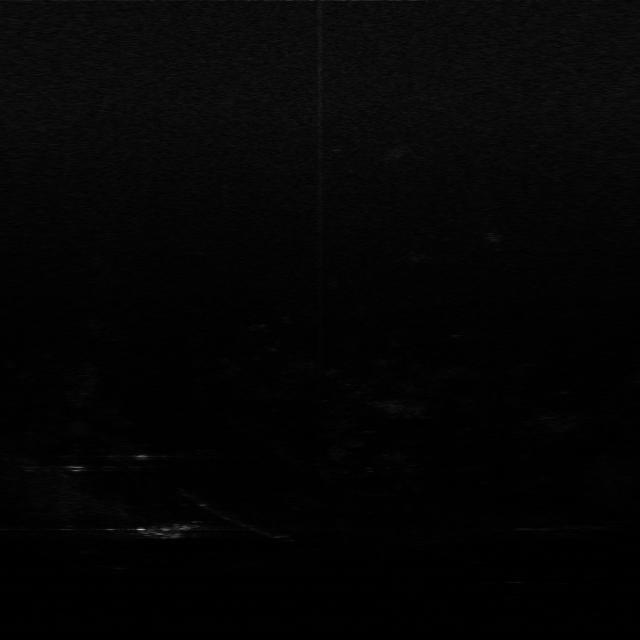rov: (133, 520, 193, 545)
